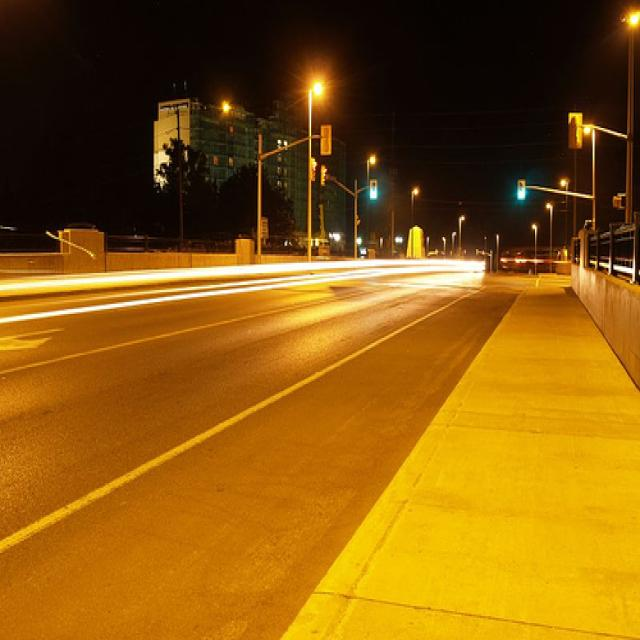Vehicle: (500, 250, 534, 274)
